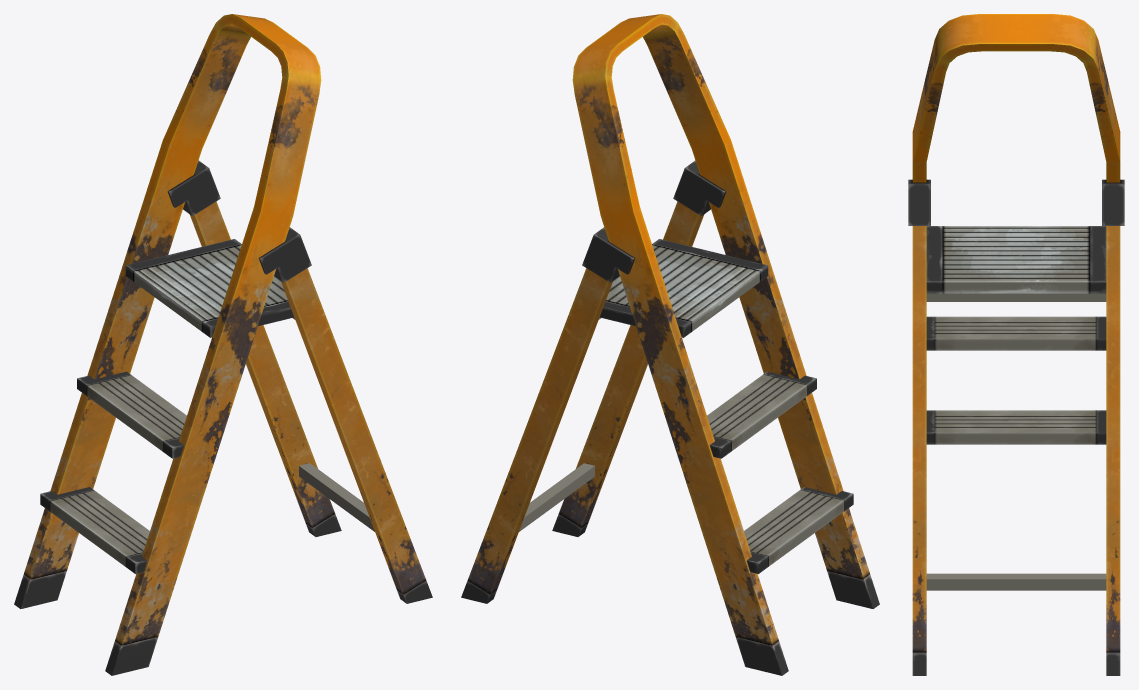
File: ladder06_A.fbx
The picture shows the model from 3 angles, left to right: view 1: azimuth 30°, elevation 25°; view 2: azimuth 150°, elevation 25°; view 3: azimuth 270°, elevation 25°; orthographic projection. The views are drawn at different scales.
Parts seen in each view (by area): view 1: ladder06_A; view 2: ladder06_A; view 3: ladder06_A.
Boxes of the visible parts, box(x1,y1,x2,y2) form: ladder06_A: box(14, 14, 432, 675); ladder06_A: box(461, 14, 879, 675); ladder06_A: box(908, 14, 1124, 675).
Bounding box in the file's own units: 94.34 × 158 × 51.75.
